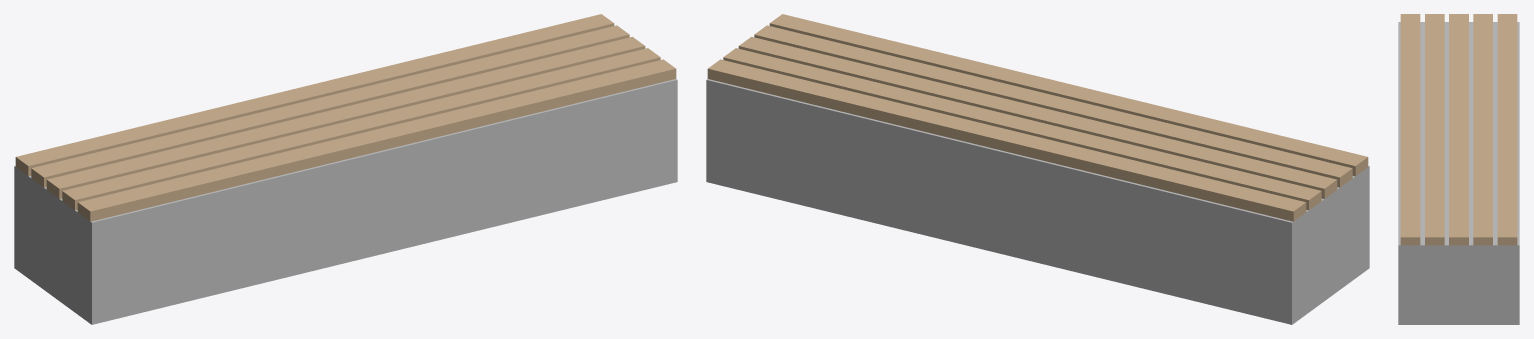
The model's file is bench_plaza.glb.
The picture shows the model from 3 angles, left to right: view 1: azimuth 30°, elevation 25°; view 2: azimuth 150°, elevation 25°; view 3: azimuth 270°, elevation 25°; orthographic projection. The views are drawn at different scales.
Visible parts, largest first — view 1: bench_plaza; view 2: bench_plaza; view 3: bench_plaza.
Part boxes in pixels (x1=…): bench_plaza: x1=14, y1=14, x2=677, y2=324; bench_plaza: x1=706, y1=14, x2=1369, y2=324; bench_plaza: x1=1398, y1=14, x2=1519, y2=324.
Bounding box in the file's own units: 2.4 × 0.44 × 0.55.
